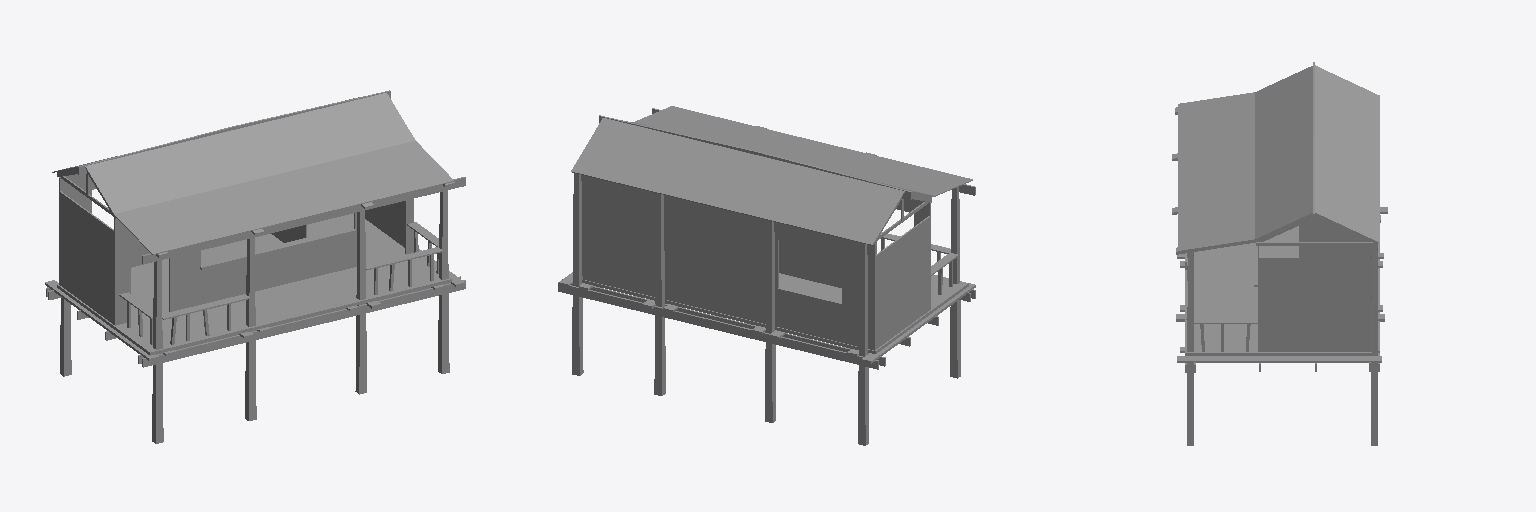
Rendered from JungleHut01_blend.obj.
The picture shows the model from 3 angles: view 1: azimuth 30°, elevation 25°; view 2: azimuth 150°, elevation 25°; view 3: azimuth 270°, elevation 25°; orthographic projection.
Parts seen in each view (by area): view 1: Untitled_JungleHutOne256; view 2: Untitled_JungleHutOne256; view 3: Untitled_JungleHutOne256.
Part boxes in pixels (x1,y1,x2,y2): Untitled_JungleHutOne256: (45, 90, 465, 443); Untitled_JungleHutOne256: (558, 106, 975, 445); Untitled_JungleHutOne256: (1172, 62, 1387, 445).
Size of the model in its own units: 13.57 by 9.44 by 7.81.